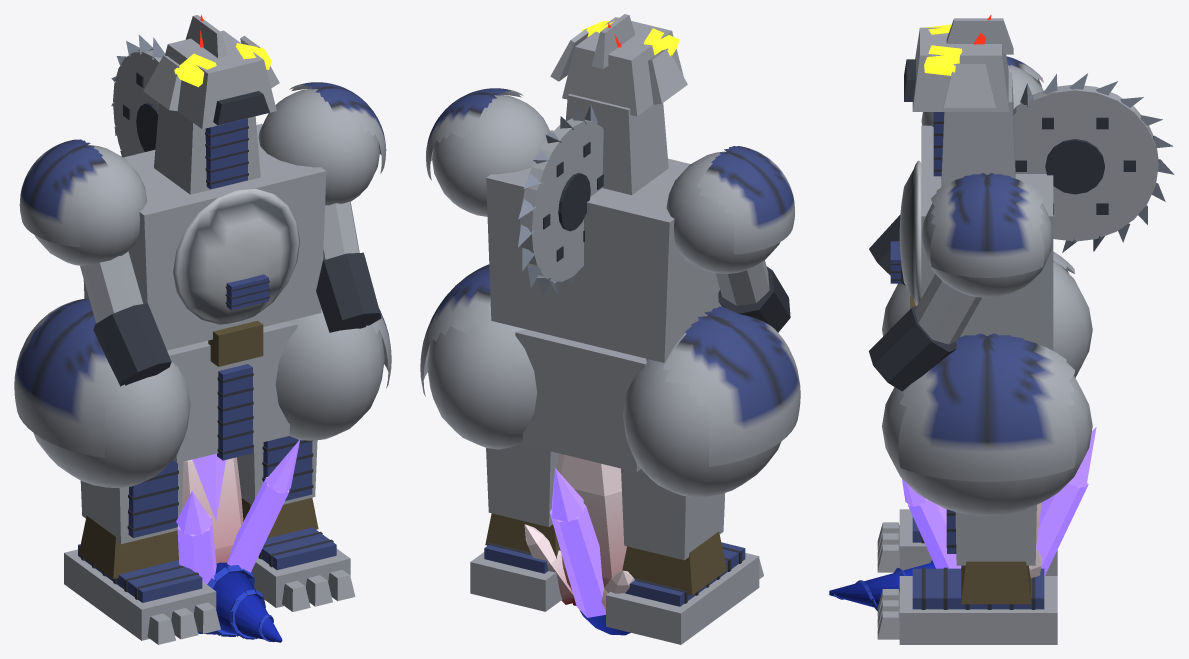
Rendered from kaiju94.glb.
3 views of the same model, side by side, from view 1: azimuth 30°, elevation 25°; view 2: azimuth 150°, elevation 25°; view 3: azimuth 270°, elevation 25° (orthographic).
Visible parts, largest first — view 1: MOG_body, SG_crystal, MOG_drill, SG_shoulder; view 2: MOG_body, SG_shoulder, SG_crystal; view 3: MOG_body, SG_crystal, MOG_drill.
Part boxes in pixels (box(x1,y1,x2,y2)): MOG_body: box(14, 15, 391, 644); SG_crystal: box(176, 439, 300, 584); MOG_drill: box(197, 562, 282, 642); SG_shoulder: box(181, 457, 243, 563); MOG_body: box(420, 14, 800, 644); SG_shoulder: box(524, 453, 634, 609); SG_crystal: box(549, 468, 605, 617); MOG_body: box(869, 14, 1174, 644); SG_crystal: box(902, 427, 1096, 575); MOG_drill: box(829, 560, 935, 610).
Bounding box in the file's own units: 46.4 × 77.91 × 39.33.
